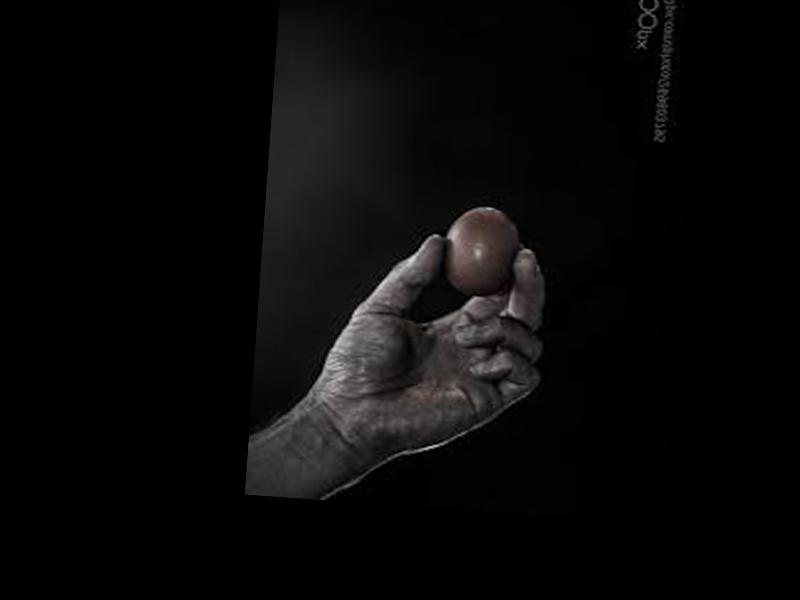Eggs: (438, 204, 520, 301)
